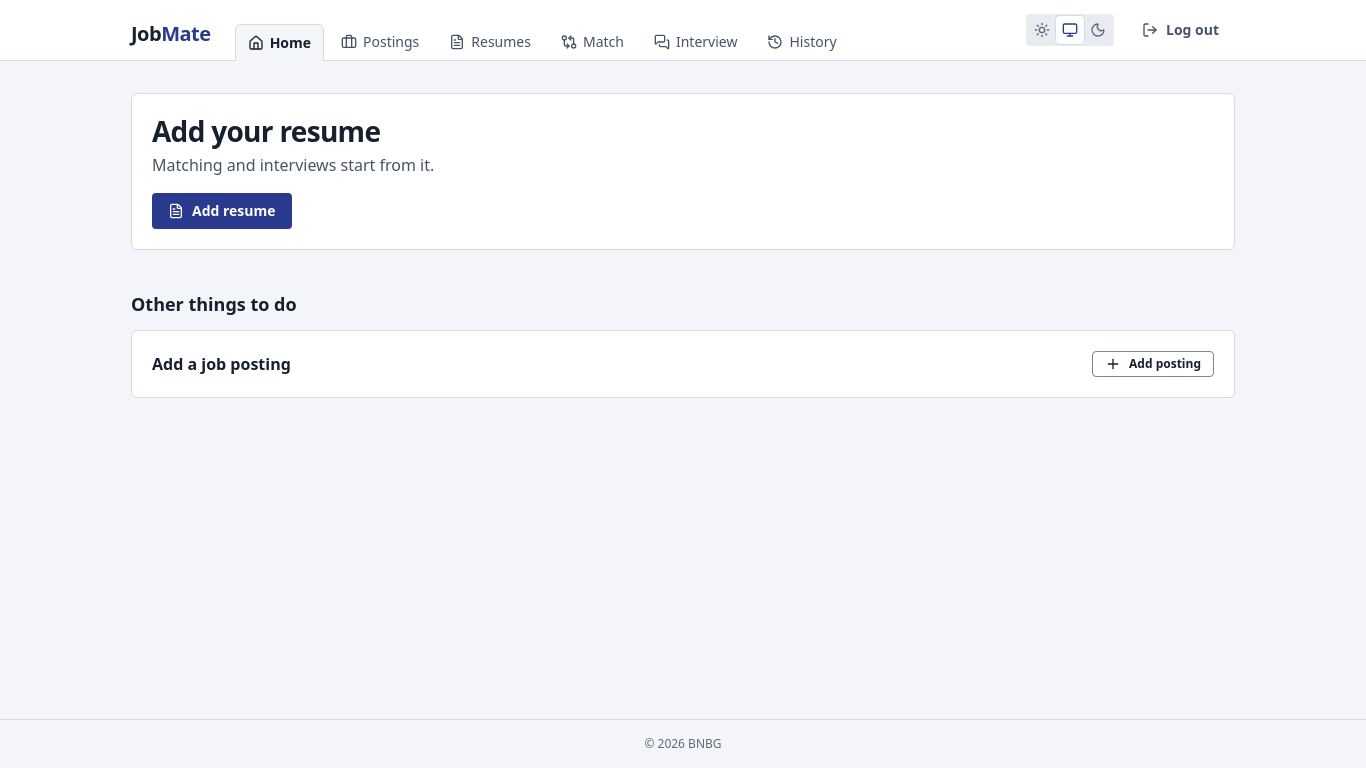
Test: logging out returns to the login screen
Click the button "Log out": (1180, 30) 1126,12 -> 1235,48
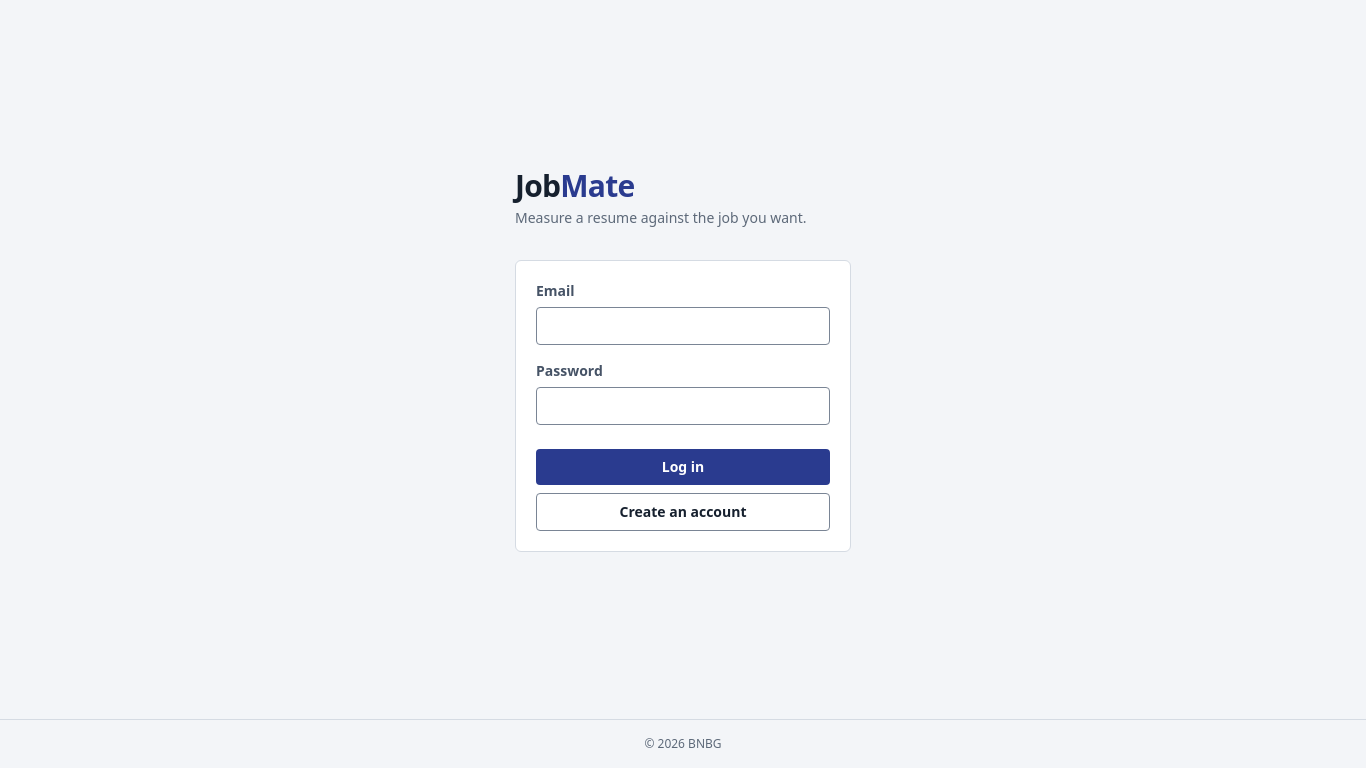
Result: the field labelled "Email" is shown at 536,306 -> 830,344
